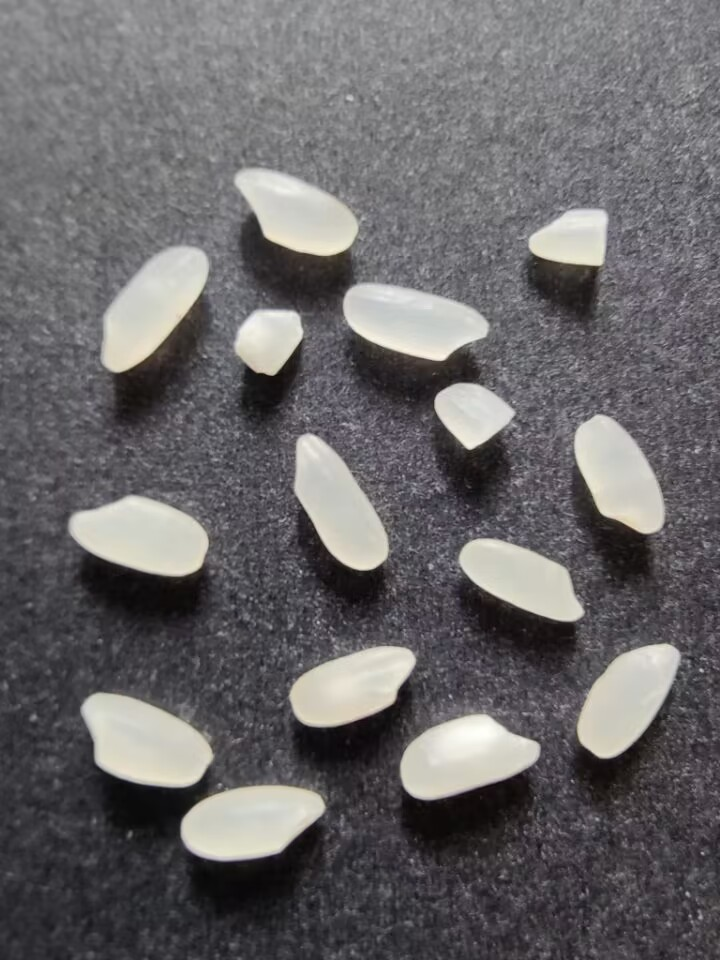broken: (428, 377, 520, 456), (230, 298, 310, 383), (519, 205, 615, 270)
rice: (91, 238, 212, 377), (287, 428, 394, 582), (74, 692, 219, 793), (62, 490, 213, 584), (395, 710, 544, 805), (573, 639, 683, 761), (178, 782, 329, 870), (340, 278, 493, 363), (571, 409, 669, 540), (284, 640, 420, 731), (232, 166, 364, 258), (454, 536, 583, 630)
